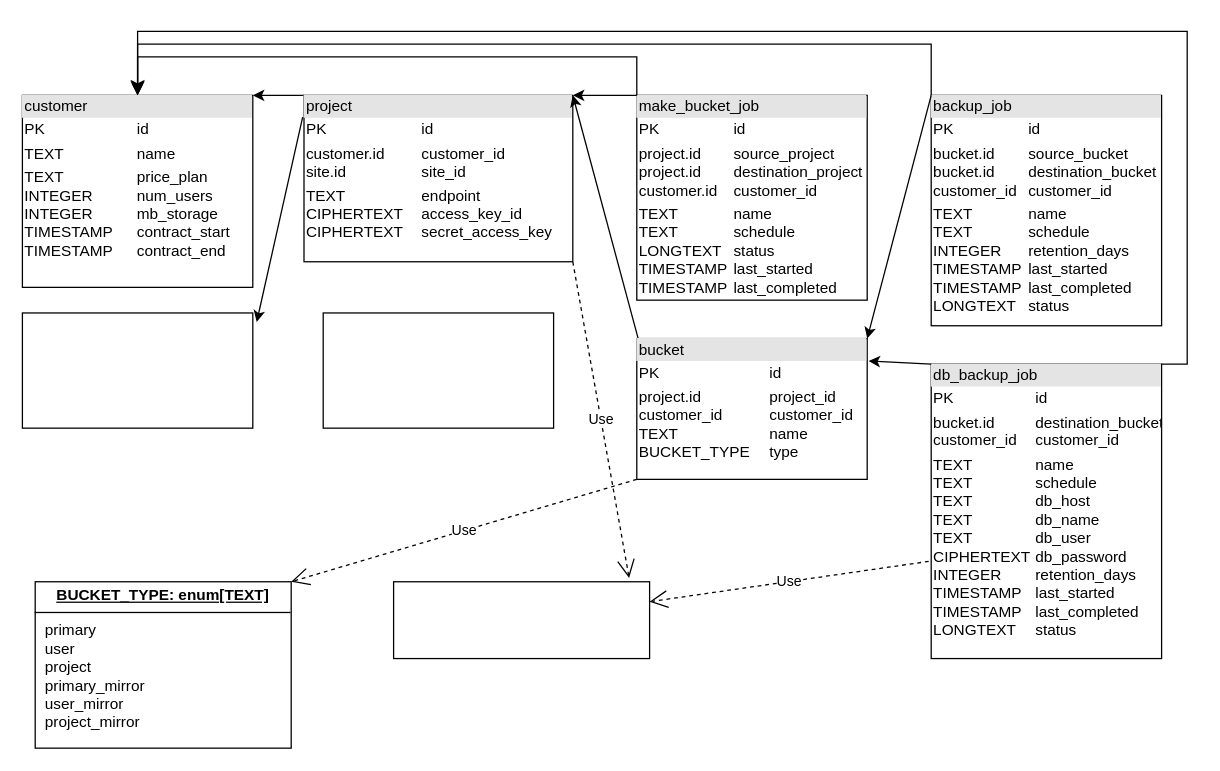
Image size: 1220x771. Some labels were removed from this diagram. Here are the shapes that lost their labels. From the top down, the centre of each, then its label:
At [137,370]: "site PK id TEXT TEXT name location".
At [438,370]: "agent PK id TEXT TEXT name location LONGTEXT public_key".
At [521,619]: "CIPHERTEXT: TEXT age encrypted text".
